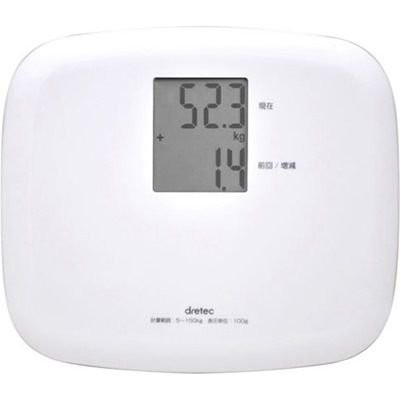LCD: (152, 77, 249, 194)
